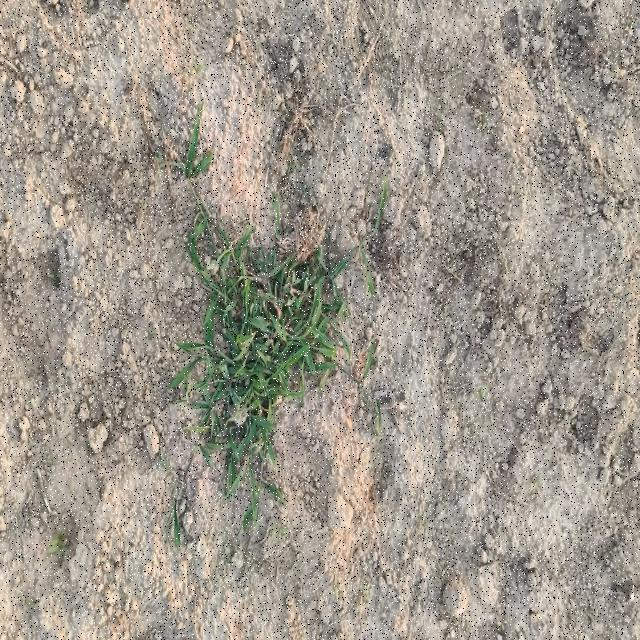weed: (169, 196, 353, 528)
